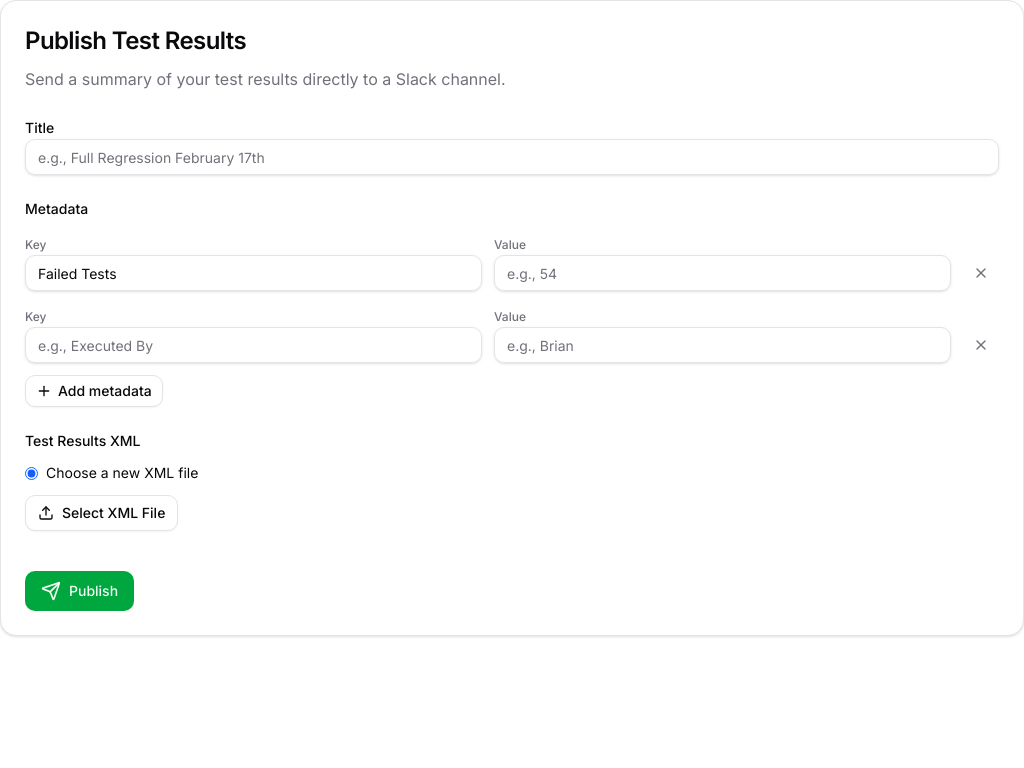
Scenario: PublishPage › should add a metadata row when "Add metadata" is clicked
The width and height of the screenshot is (1024, 768).
Click the button "Add metadata".
click(94, 391)  # box [25, 375, 163, 407]
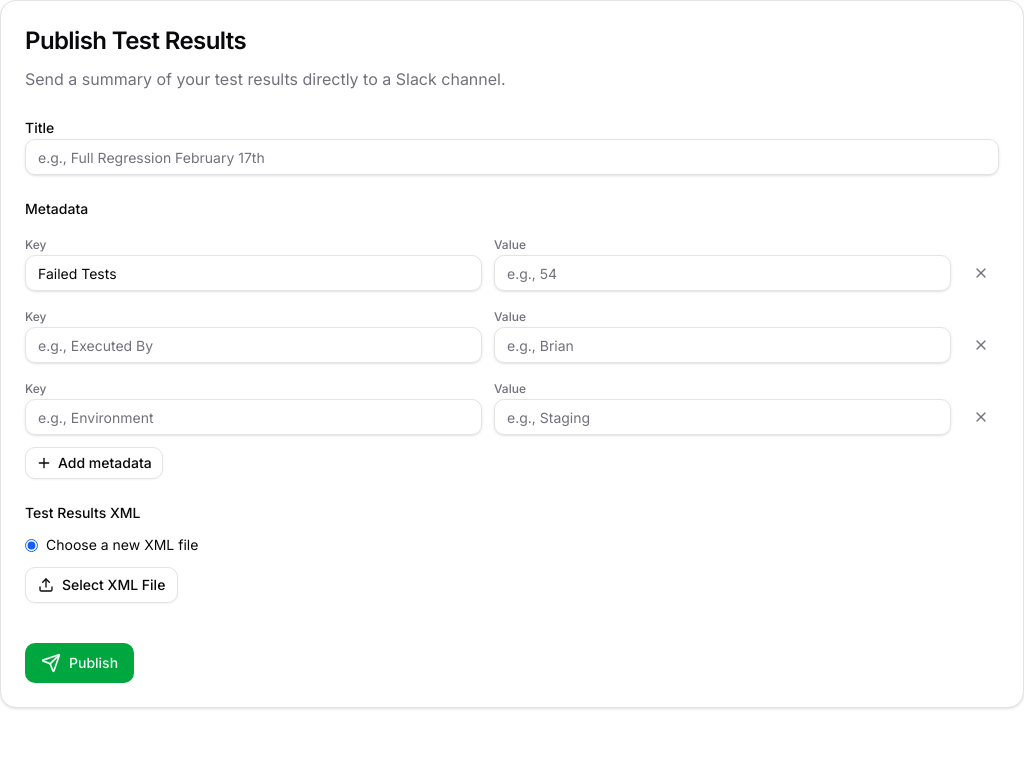
Check: the text "Key" is shown 3 times, box [25, 237, 46, 252]; [25, 309, 46, 324]; [25, 381, 46, 396]
Check: the text "Value" is shown 3 times, box [494, 237, 526, 252]; [494, 309, 526, 324]; [494, 381, 526, 396]
